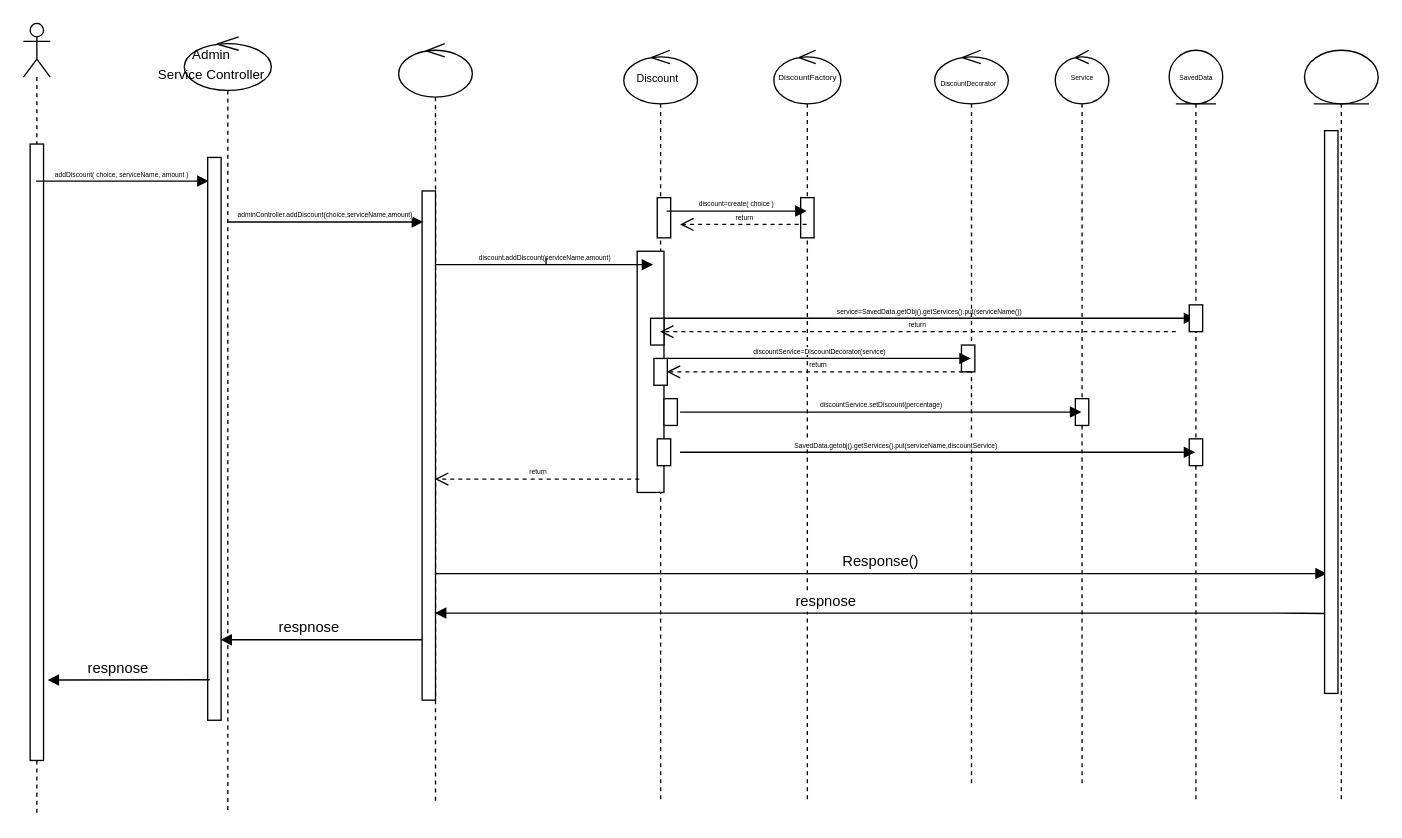
This 1402x838 diagram has some shape labels left out. Here are the shapes that lost their labels. From the top down, the box of each, then its label:
(397, 42, 472, 801): Admin Controller
(1303, 49, 1378, 801): Response
